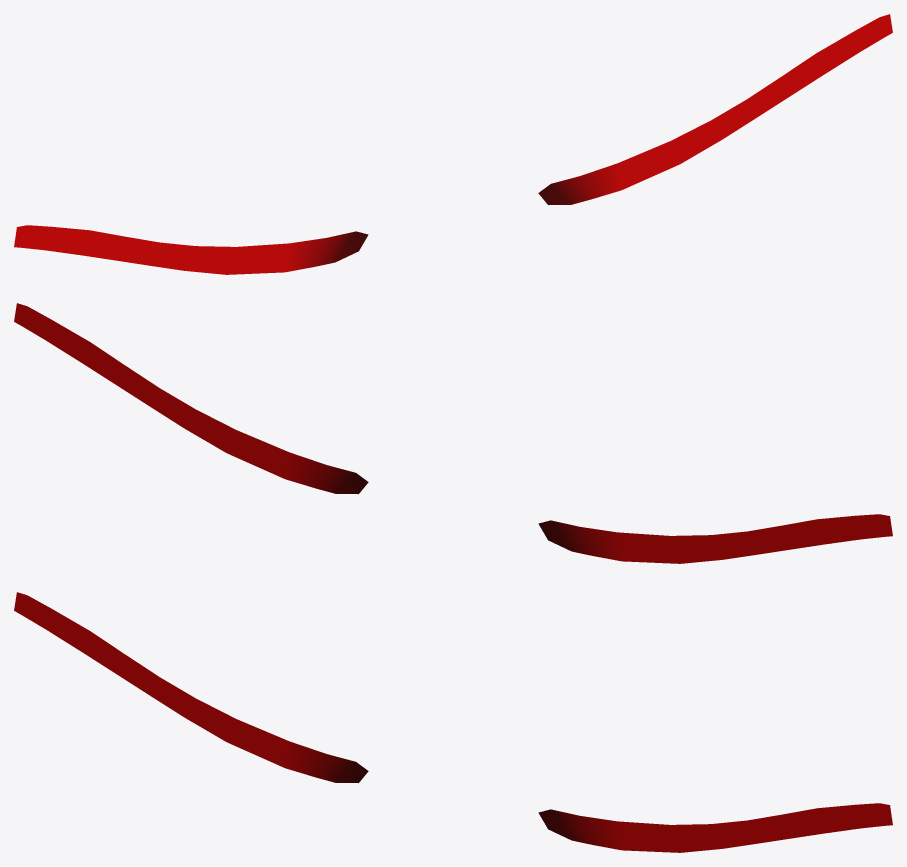
Rendered from frame170.fbx.
3 views of the same model, one above another, from view 1: azimuth 30°, elevation 25°; view 2: azimuth 150°, elevation 25°; view 3: azimuth 330°, elevation 25° (orthographic).
Parts seen in each view (by area): view 1: MaterialLayer; view 2: MaterialLayer; view 3: MaterialLayer.
Part boxes in pixels (x1,y1,x2,y2): MaterialLayer: (14, 14, 892, 274); MaterialLayer: (14, 303, 892, 563); MaterialLayer: (14, 592, 892, 852).
Bounding box in the file's own units: 1519 × 187 × 0.
